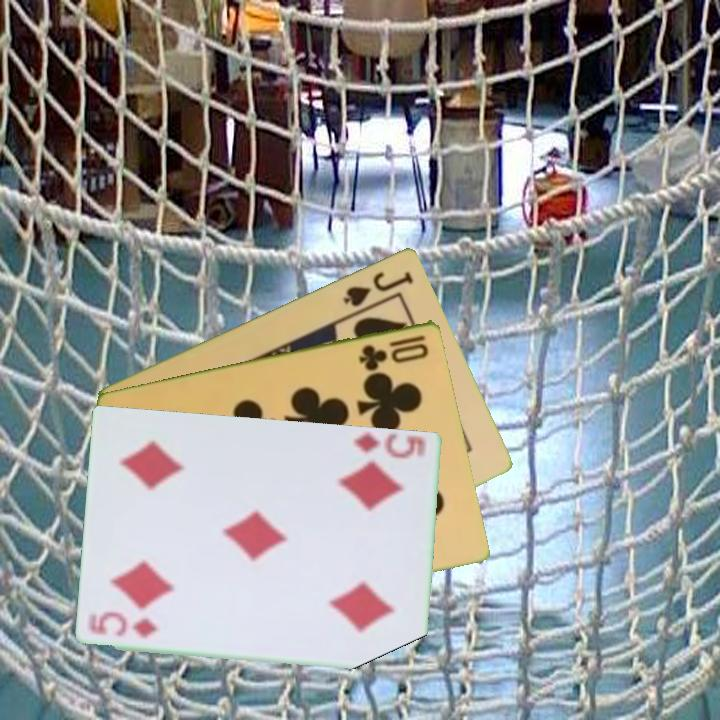10c: (355, 331, 432, 372)
5d: (350, 429, 430, 461), (86, 614, 161, 640)
Js: (339, 267, 417, 309)
